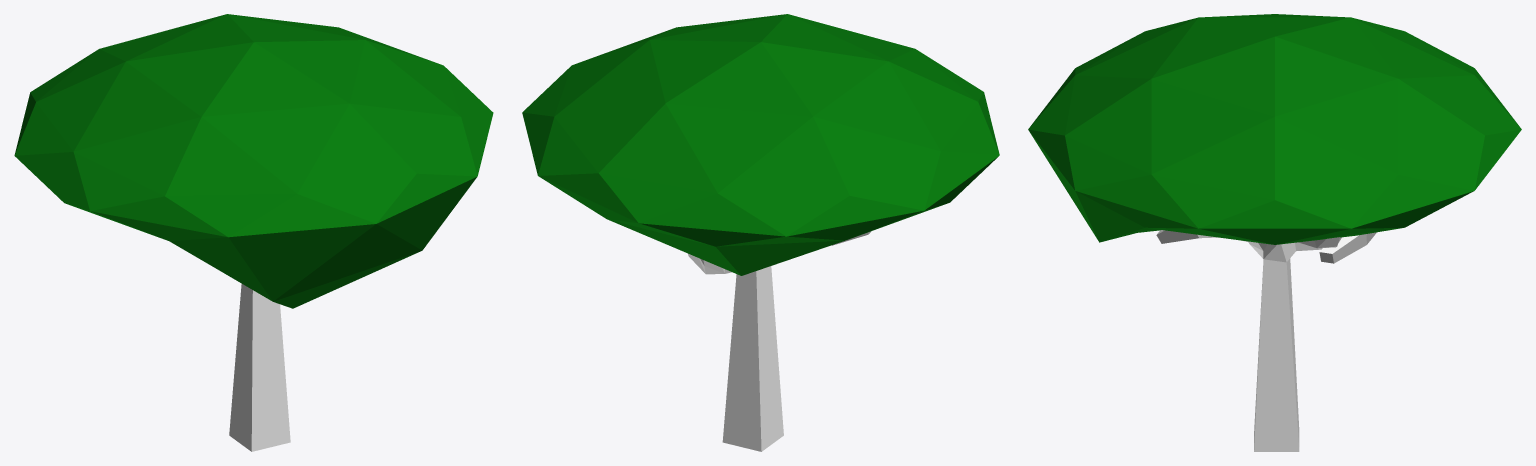
File: Tree.fbx
3 views of the same model, side by side, from view 1: azimuth 30°, elevation 25°; view 2: azimuth 150°, elevation 25°; view 3: azimuth 270°, elevation 25° (orthographic).
Parts seen in each view (by area): view 1: Cube; view 2: Cube; view 3: Cube.
Boxes of the visible parts, x1,y1,x2,y2 form: Cube: [14, 14, 493, 451]; Cube: [522, 14, 999, 451]; Cube: [1028, 14, 1521, 451].
Size of the model in its own units: 837 by 791 by 880.
